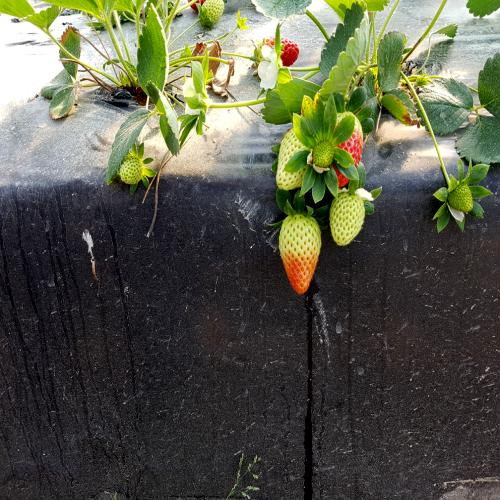partially-ripe: (280, 204, 324, 310)
